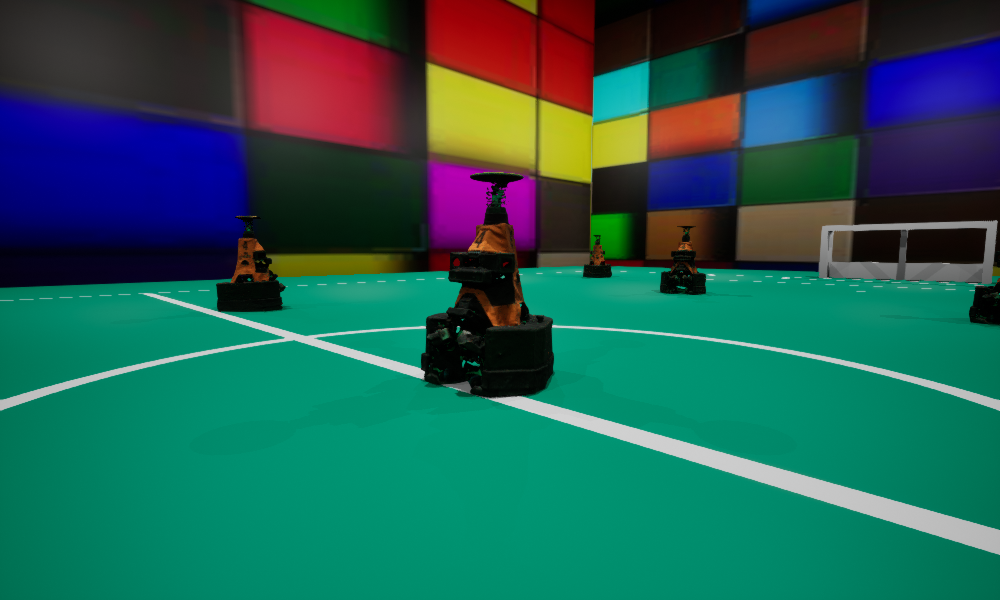o: (421, 172, 553, 395), (216, 216, 285, 311), (660, 226, 705, 293), (969, 251, 999, 323), (583, 235, 611, 277)
